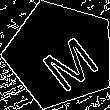M_NW: (25, 21, 96, 89)
